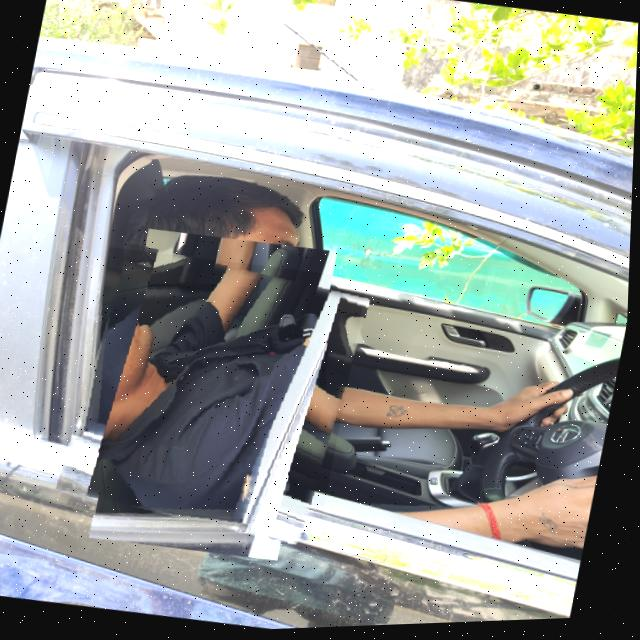no-seatbelt: (61, 240, 372, 551)
